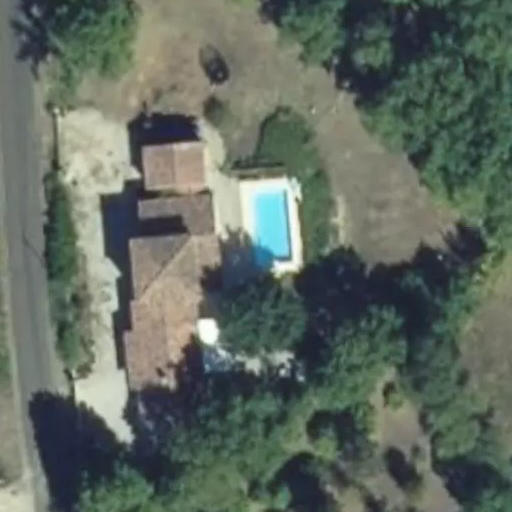pool: (233, 206, 278, 277)
